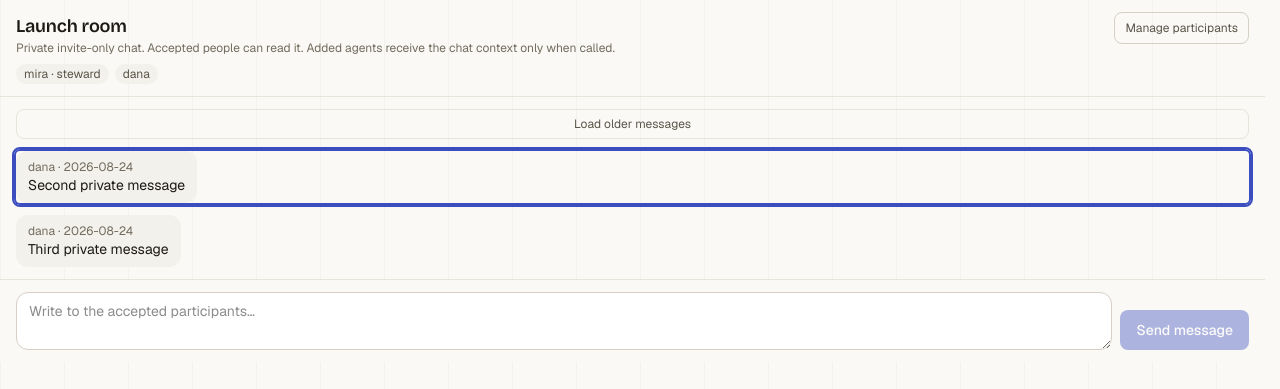
Test: private shared chat › focuses a message named by a private chat notification and can load the history before it
The width and height of the screenshot is (1280, 389).
Expected: the text "Second private message" is shown, [28,175,185,195]
Expected: the text "Third private message" is shown, [28,239,169,259]
# The short deep-link page still has history before it.
Click the button "Load older messages" at (632,124), box [16,109,1249,139]
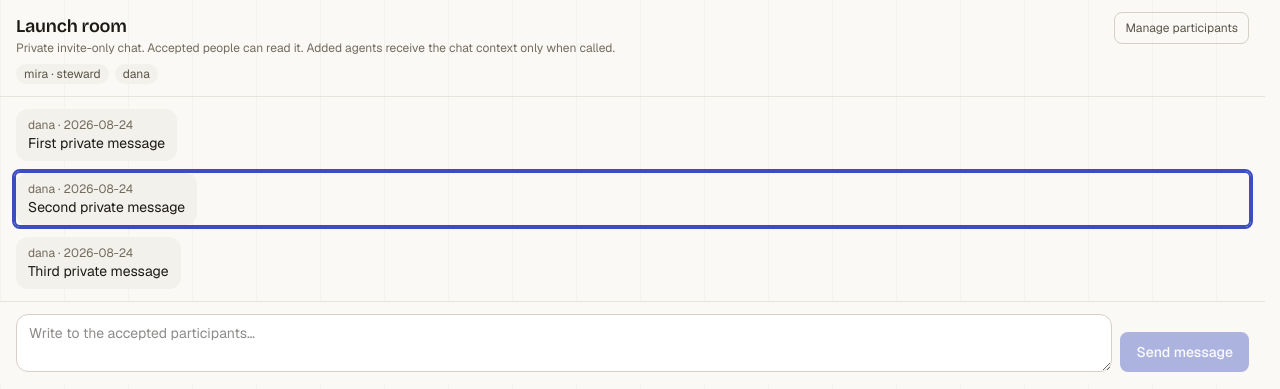
Expected: the text "First private message" is shown, [28,133,165,153]
Expected: the button "Load older messages" is gone
